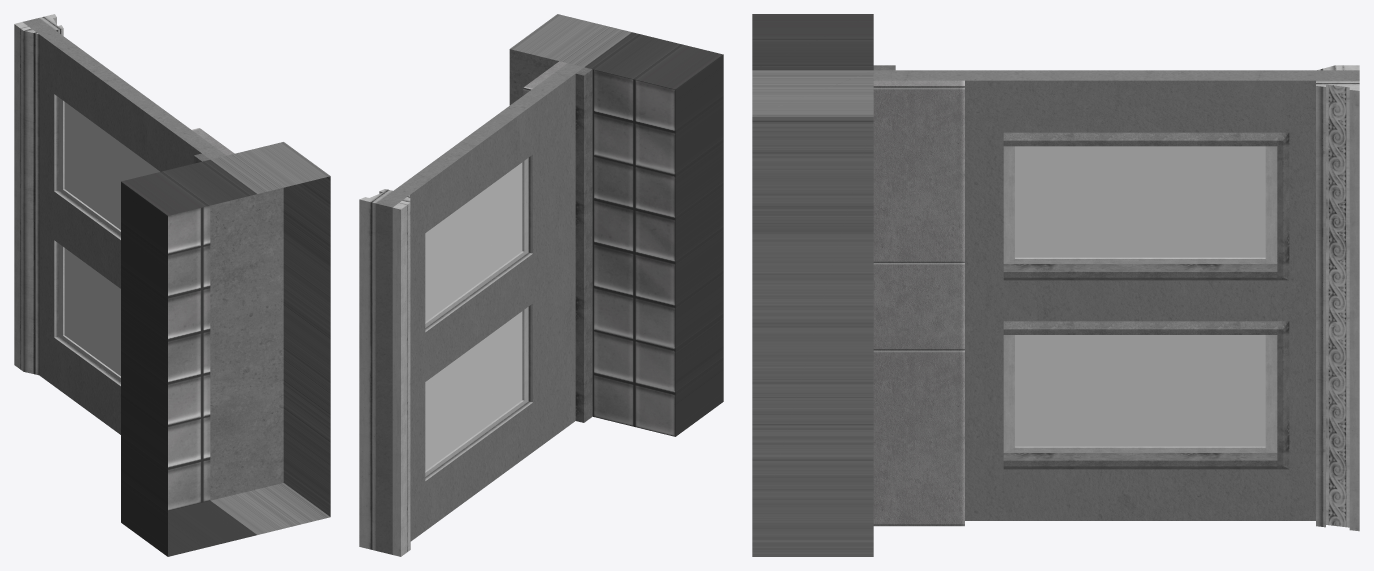
File: A_ground_wall_ 4m_two_small_windows.fbx
3 renders of one model, left to right at view 1: azimuth 30°, elevation 25°; view 2: azimuth 150°, elevation 25°; view 3: azimuth 270°, elevation 25°, orthographic. The views are drawn at different scales.
Parts seen in each view (by area): view 1: A_ground_wall__4m_two_small_windows, A_glass_015, A_glass_014; view 2: A_ground_wall__4m_two_small_windows, A_glass_015, A_glass_014; view 3: A_ground_wall__4m_two_small_windows, A_glass_015, A_glass_014.
Boxes of the visible parts, <box> form: A_ground_wall__4m_two_small_windows: <box>14,14,330,556</box>; A_glass_015: <box>64,102,159,229</box>; A_glass_014: <box>64,248,120,375</box>; A_ground_wall__4m_two_small_windows: <box>359,14,723,556</box>; A_glass_015: <box>425,162,522,321</box>; A_glass_014: <box>425,311,522,470</box>; A_ground_wall__4m_two_small_windows: <box>752,14,1359,556</box>; A_glass_015: <box>1015,146,1265,257</box>; A_glass_014: <box>1015,335,1265,446</box>.
Size of the model in its own units: 2 by 4 by 5.
